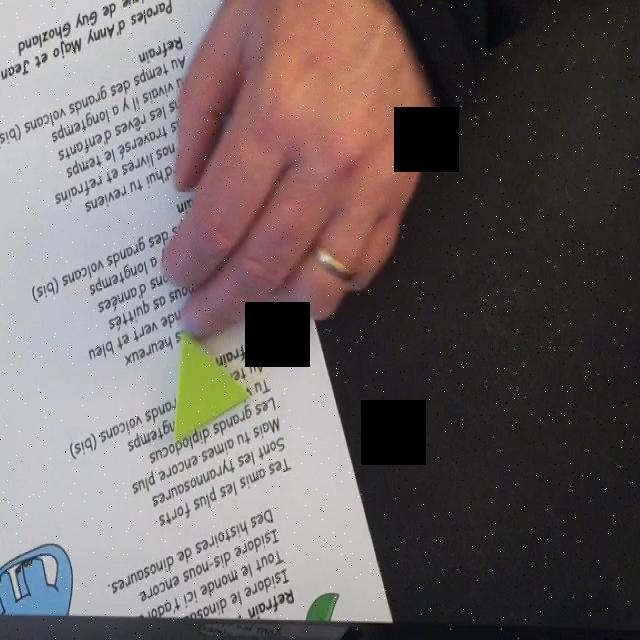triangle: (173, 328, 249, 451)
